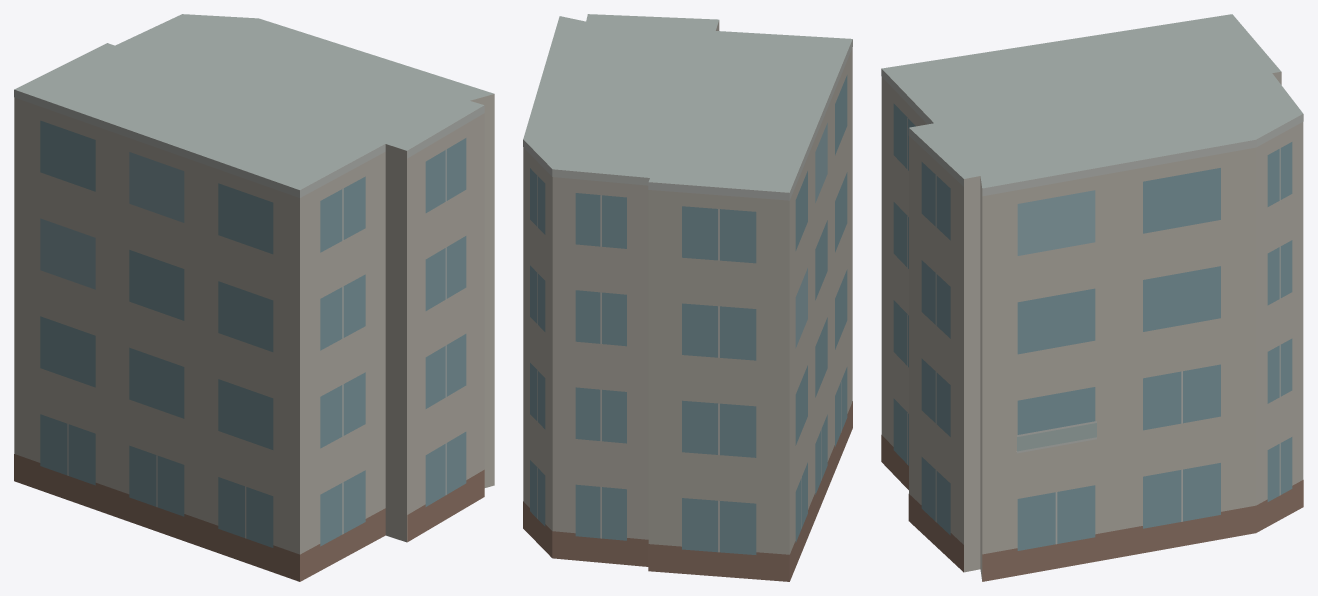
The model's file is survey-upis-32702283.glb.
The picture shows the model from 3 angles, left to right: view 1: azimuth 30°, elevation 25°; view 2: azimuth 150°, elevation 25°; view 3: azimuth 270°, elevation 25°; orthographic projection.
Parts seen in each view (by area): view 1: survey-upis-32702283.tmp; view 2: survey-upis-32702283.tmp; view 3: survey-upis-32702283.tmp.
Part boxes in pixels (bbox=[...]): survey-upis-32702283.tmp: bbox=[14, 14, 494, 581]; survey-upis-32702283.tmp: bbox=[523, 14, 852, 581]; survey-upis-32702283.tmp: bbox=[881, 14, 1303, 581].
Bounding box in the file's own units: 11.62 × 12.2 × 11.87.
